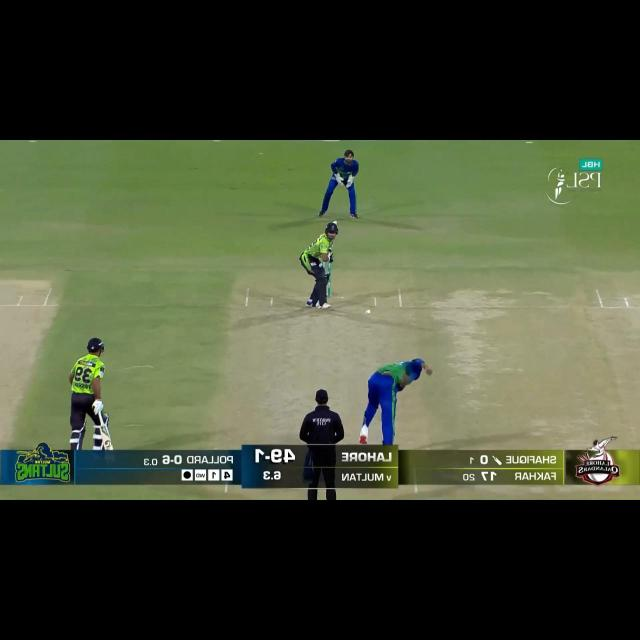bat: (99, 424, 117, 451), (328, 244, 334, 252)
toe: (102, 442, 114, 451), (332, 220, 338, 224)
